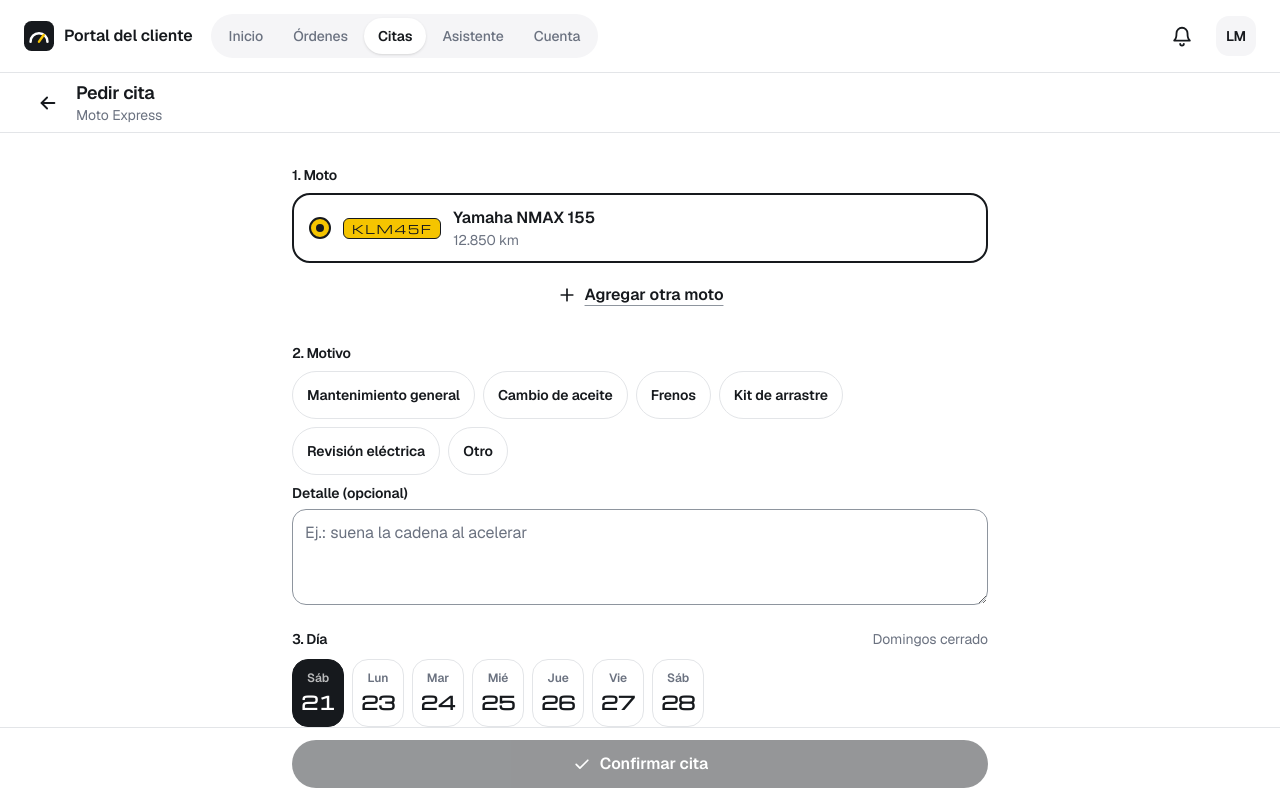
Test: HU-59 · Pedir una cita como cliente › si la hora se ocupó mientras elegía, muestra el mensaje y recarga las horas
Click the button "Cambio de aceite": [555, 395] box [483,371,628,419]
(page scrolled)
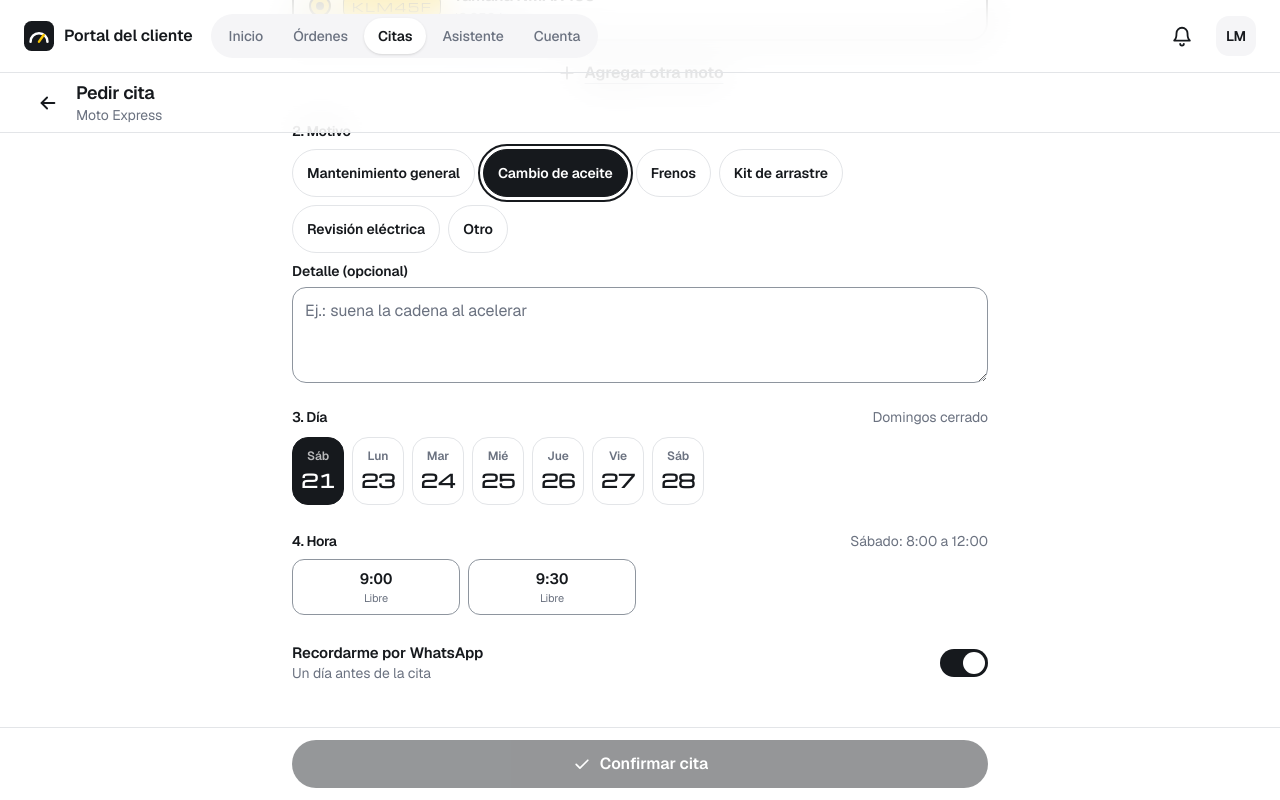
Click the button "9:00 Libre": [376, 587] box [292,559,460,615]
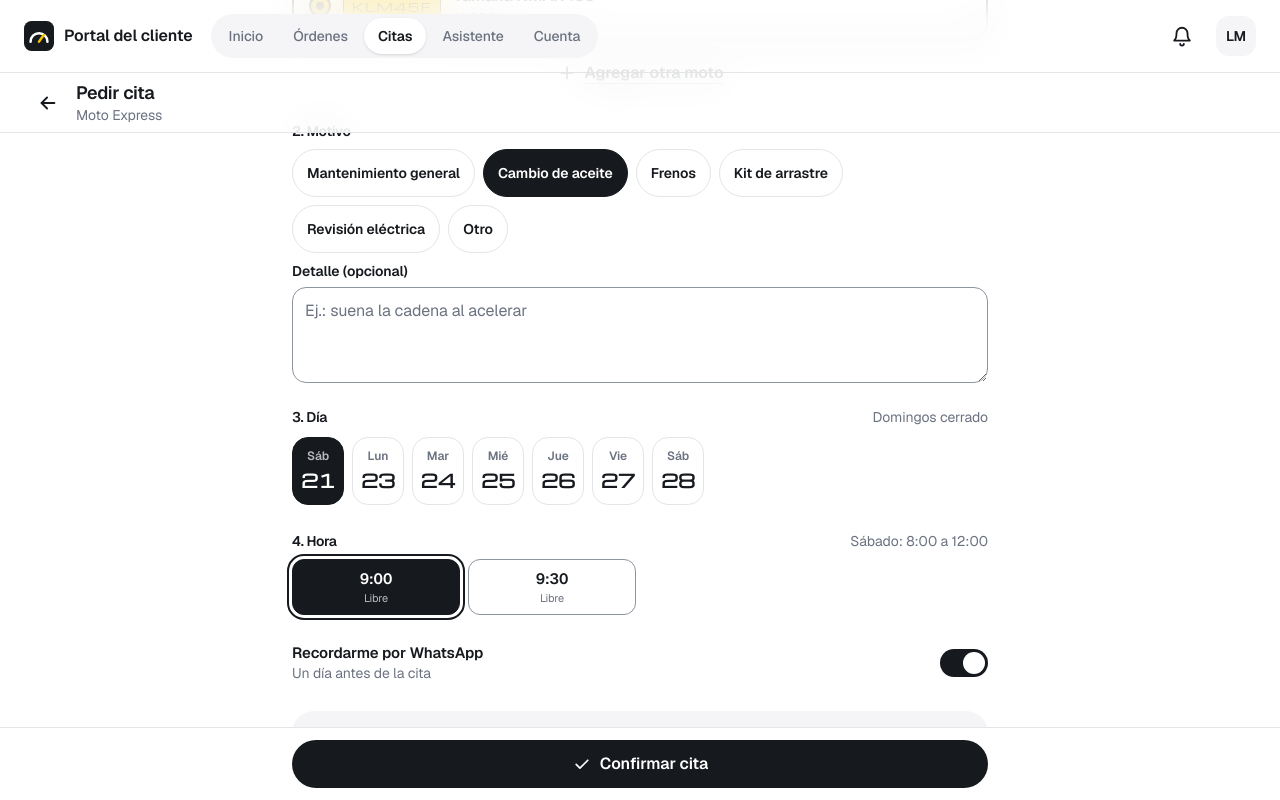
Click the button "Confirmar cita": [640, 764] box [292,740,988,788]
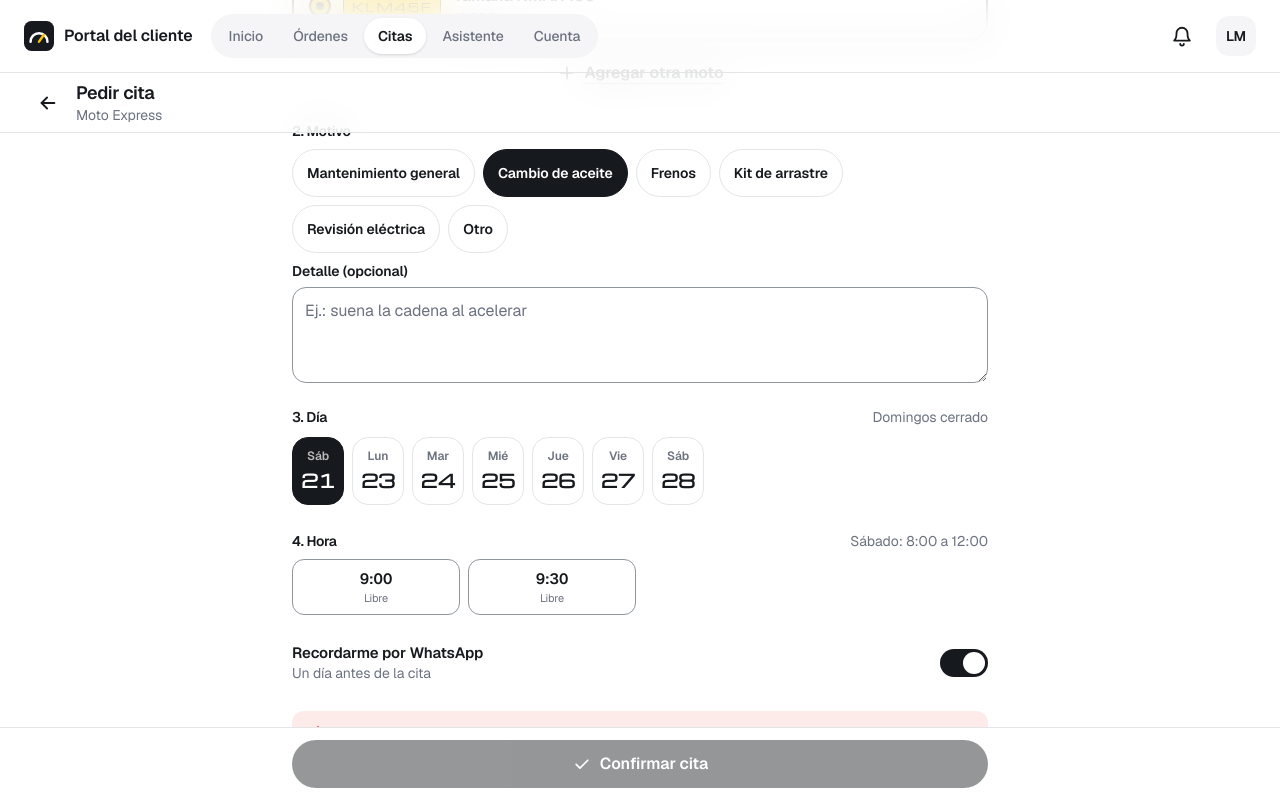
Now the text "Esa hora ya está tomada. Elige otra" is shown, box [336,723,562,743]
Now the button "Confirmar cita" is disabled, box [292,740,988,788]
